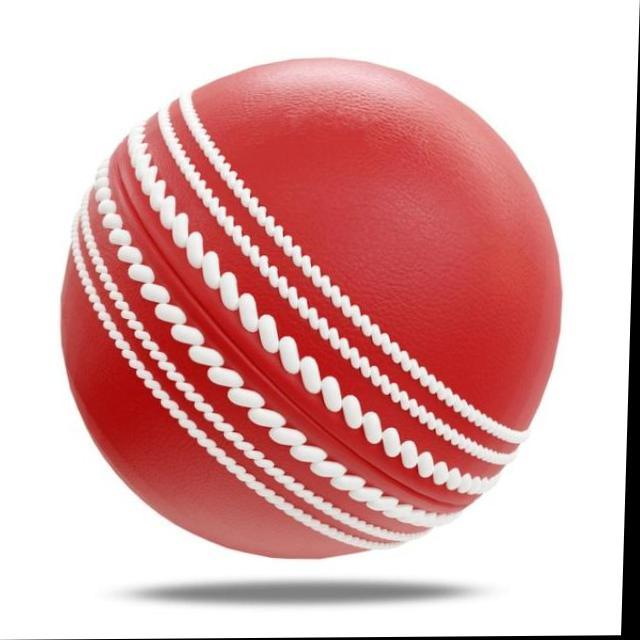cricket ball: (62, 58, 565, 560)
